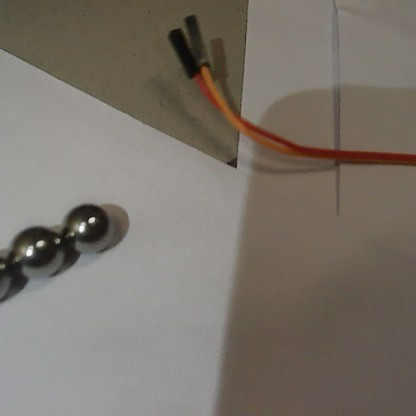ironball: (13, 223, 63, 280), (64, 201, 118, 253), (0, 248, 13, 309)
